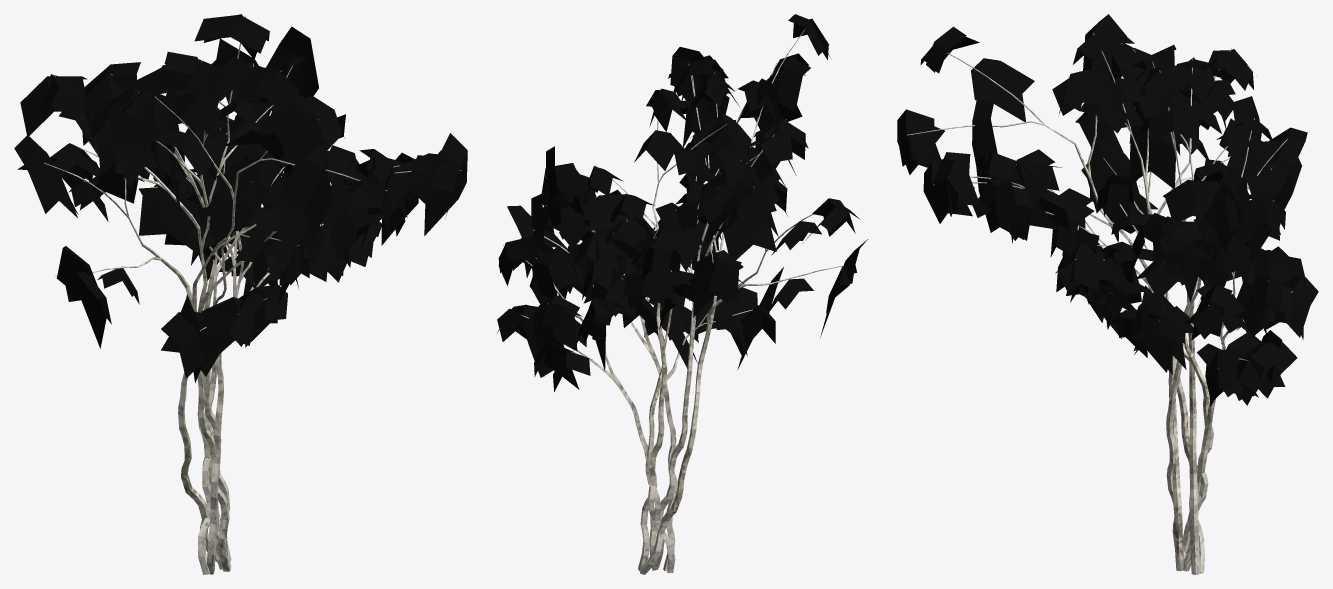
Rendered from bush_5.obj.
3 renders of one model, left to right at view 1: azimuth 30°, elevation 25°; view 2: azimuth 150°, elevation 25°; view 3: azimuth 270°, elevation 25°, orthographic. The views are drawn at different scales.
Parts seen in each view (by area): view 1: Bush_1_5; view 2: Bush_1_5; view 3: Bush_1_5.
Boxes of the visible parts, left/top/right/bottom form: Bush_1_5: left=14, top=14, right=467, bottom=574; Bush_1_5: left=497, top=14, right=867, bottom=574; Bush_1_5: left=897, top=14, right=1318, bottom=574.
Size of the model in its own units: 0.5883 by 0.8028 by 0.5903.
Materials: 1 (1 with a texture image).
